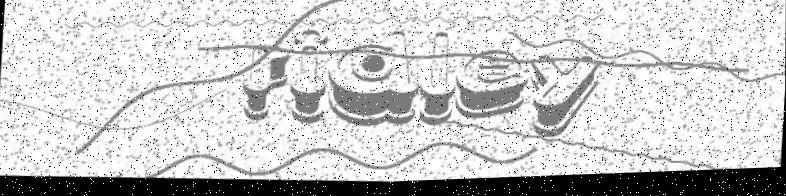d: (323, 27, 424, 131)
e: (451, 49, 530, 125)
i: (287, 27, 333, 128)
l: (417, 31, 461, 130)
r: (241, 44, 294, 125)
y: (527, 55, 603, 145)
